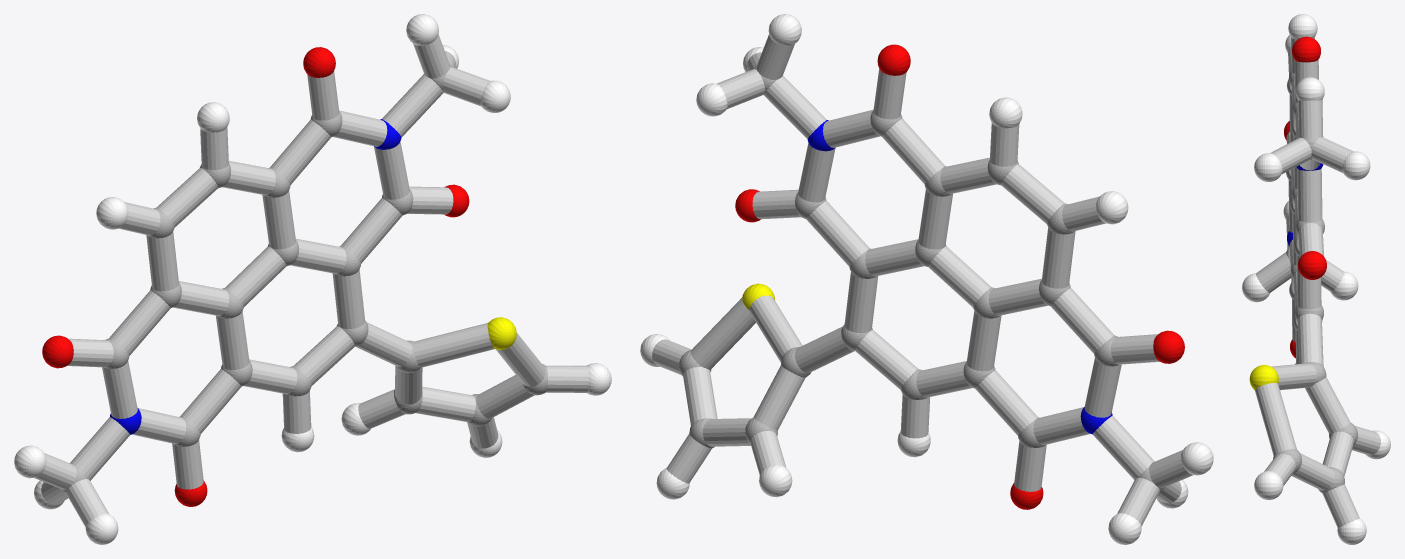
File: color.glb
The picture shows the model from 3 angles, left to right: view 1: azimuth 30°, elevation 25°; view 2: azimuth 150°, elevation 25°; view 3: azimuth 270°, elevation 25°; orthographic projection. The views are drawn at different scales.
Parts seen in each view (by area): view 1: grp14119, grp7241, grp1, grp12309, grp13757, grp11585; view 2: grp14119, grp7241, grp1, grp12309, grp11585; view 3: grp14119, grp7241, grp1, grp12309, grp13757.
Boxes of the visible parts, x1=… form: grp14119: x1=34, y1=34, x2=588, y2=527; grp7241: x1=14, y1=14, x2=611, y2=544; grp1: x1=60, y1=64, x2=547, y2=493; grp12309: x1=42, y1=47, x2=469, y2=506; grp13757: x1=487, y1=317, x2=516, y2=349; grp11585: x1=110, y1=119, x2=401, y2=434; grp14119: x1=652, y1=34, x2=1193, y2=526; grp7241: x1=640, y1=14, x2=1213, y2=544; grp1: x1=679, y1=66, x2=1164, y2=492; grp12309: x1=735, y1=44, x2=1184, y2=509; grp11585: x1=807, y1=120, x2=1112, y2=434; grp14119: x1=1254, y1=37, x2=1380, y2=527; grp7241: x1=1242, y1=14, x2=1390, y2=544; grp1: x1=1273, y1=70, x2=1357, y2=493; grp12309: x1=1284, y1=36, x2=1326, y2=358; grp13757: x1=1249, y1=365, x2=1278, y2=389.
Bounding box in the file's own units: 12.19 × 9.68 × 3.06.
